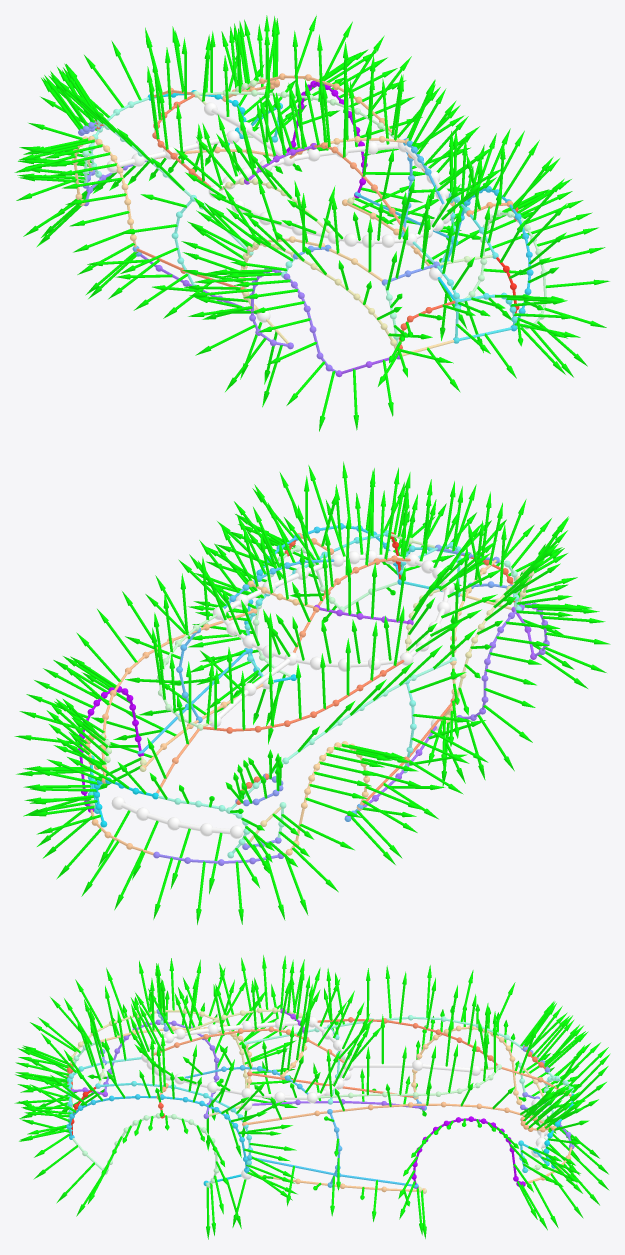
The model's file is ils_roadster.gltf.
3 views of the same model, one above another, from view 1: azimuth 30°, elevation 25°; view 2: azimuth 150°, elevation 25°; view 3: azimuth 270°, elevation 25° (orthographic). The views are drawn at different scales.
Bounding box in the file's own units: 0.5898 × 0.4222 × 1.05.
